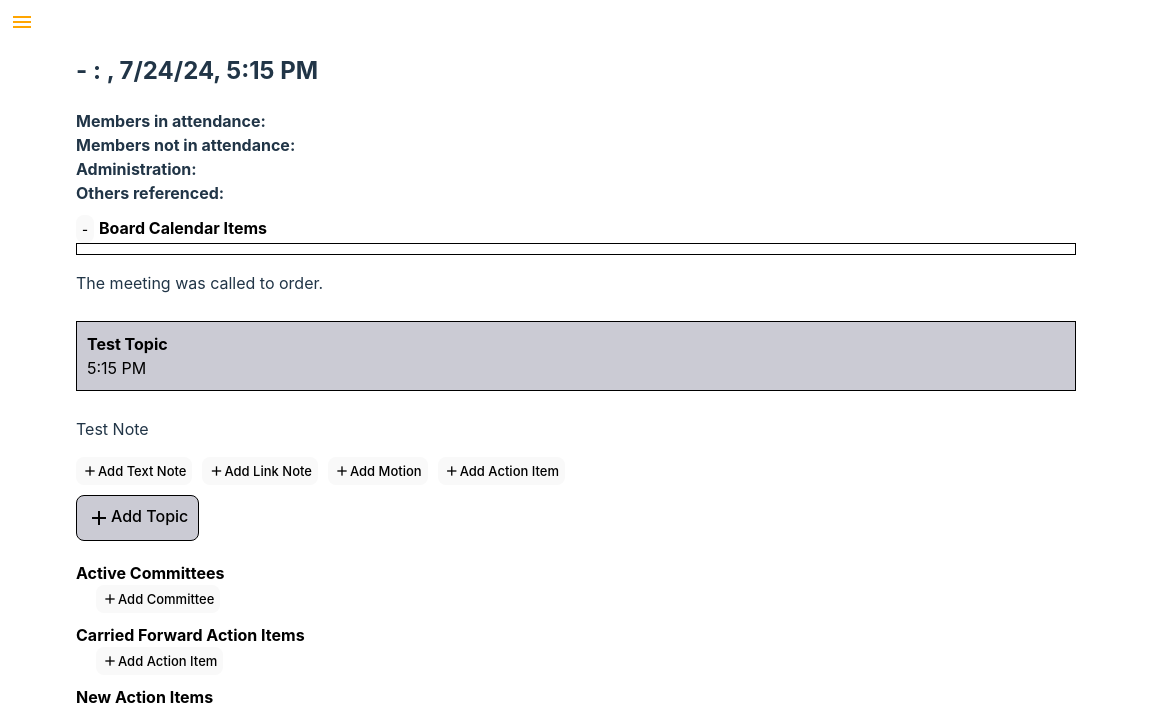
text notes › does not apply changes if cancel is clicked
Hover over the text "Test Note": {"x": 112, "y": 429} [76,419,149,439]
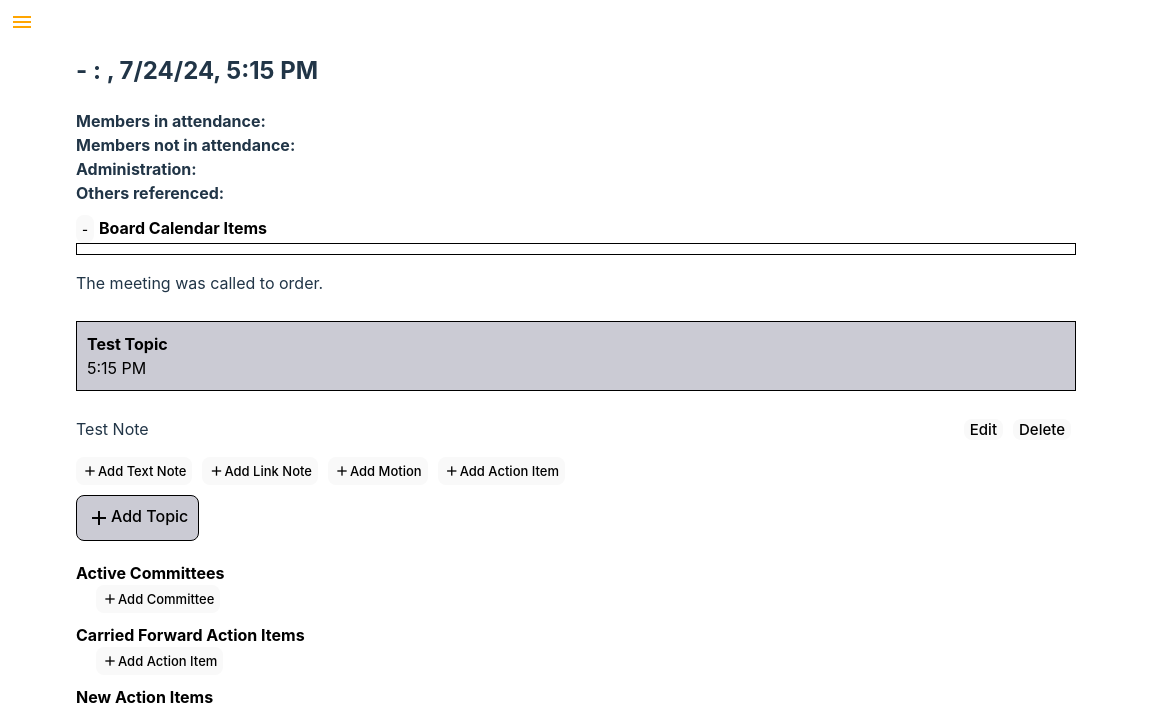
Click the button "Edit": {"x": 983, "y": 430} [964,419,1003,440]
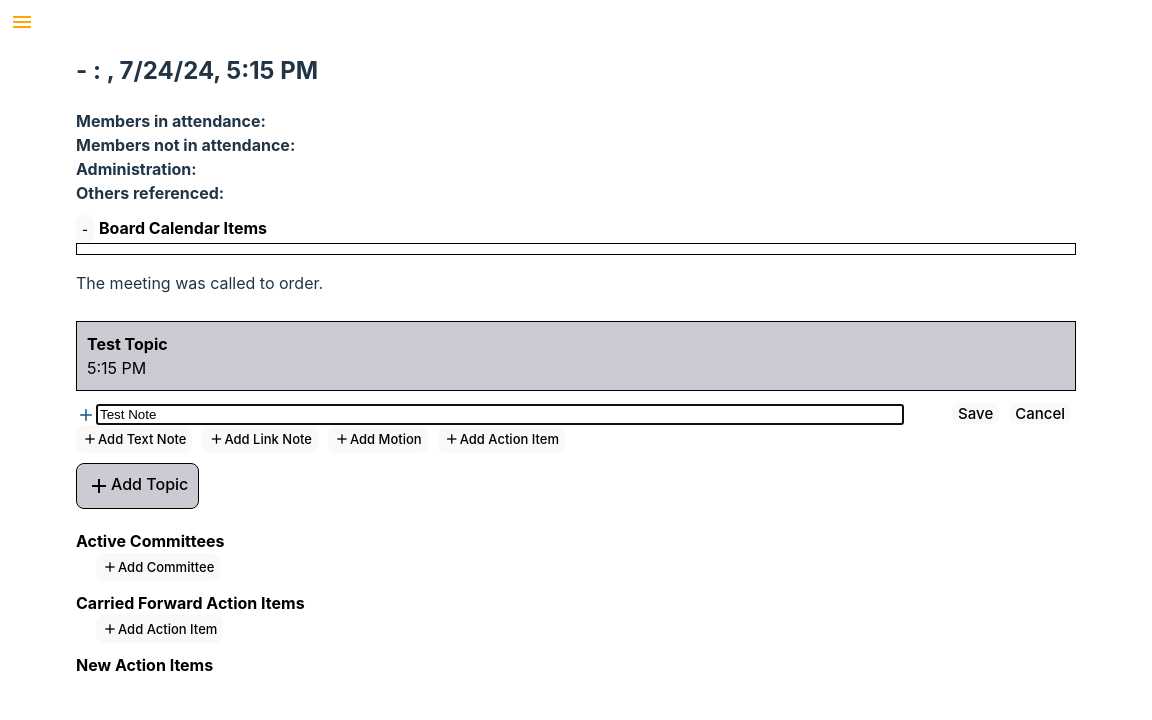
In the field named "Text": {"x": 500, "y": 415} [96,404,904,425], type " edited"
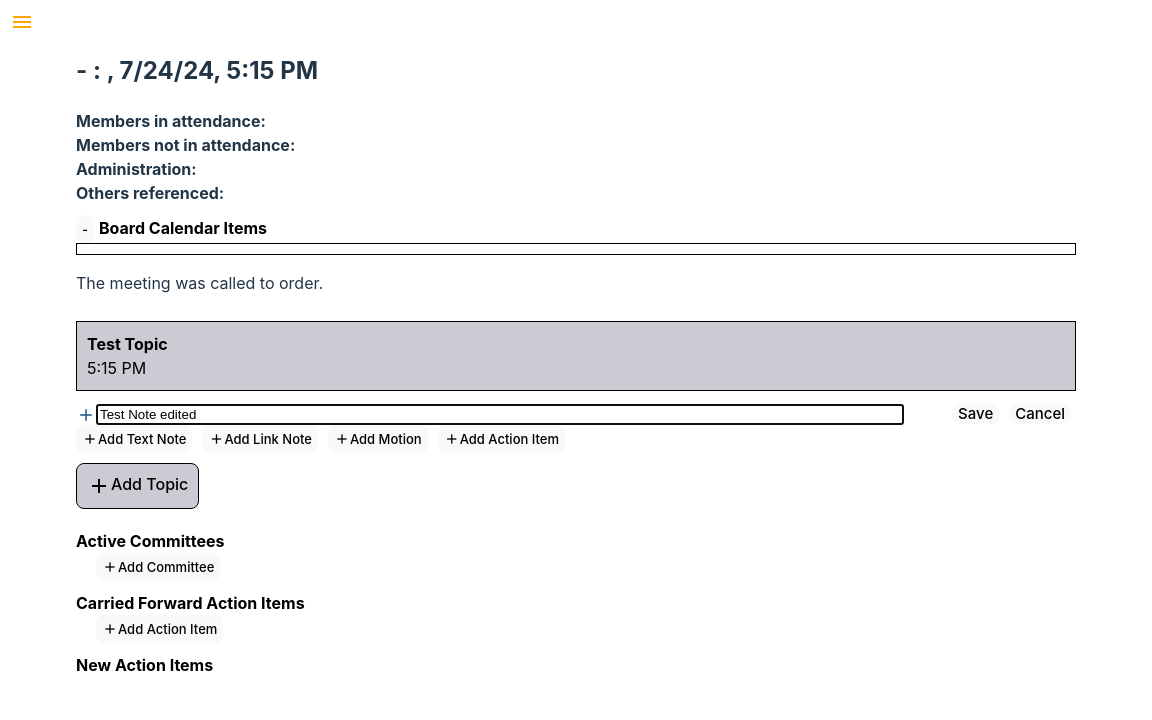
Click the button "Cancel": {"x": 1040, "y": 414} [1009,403,1071,424]
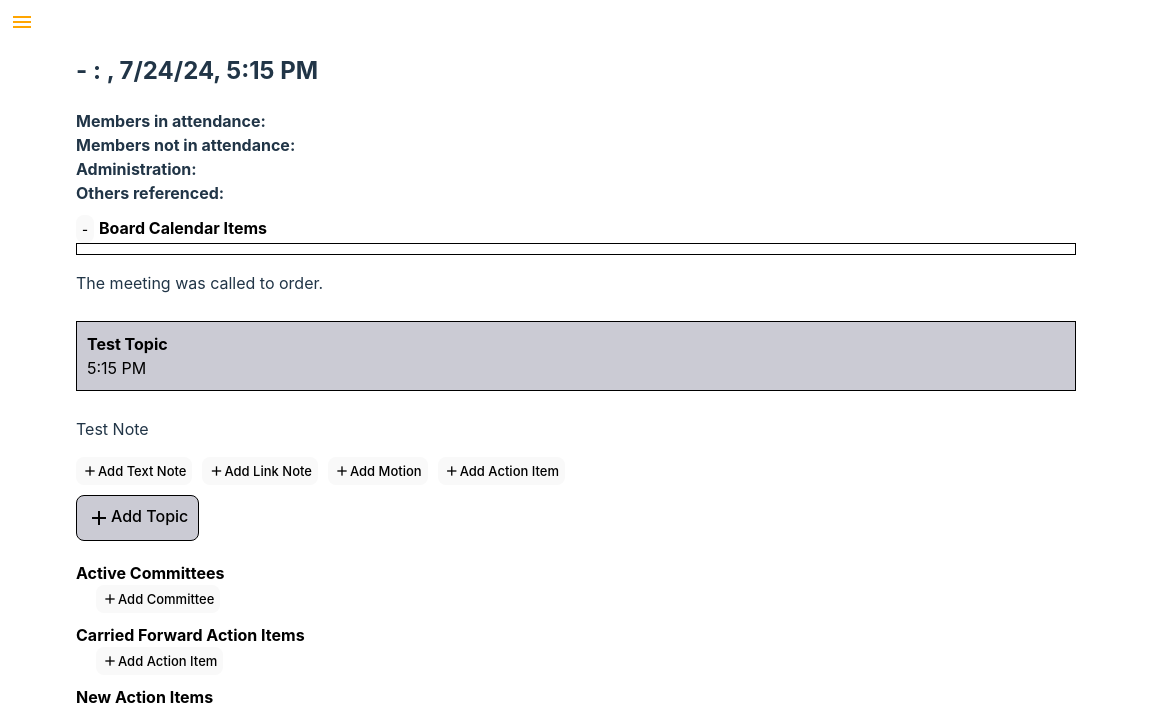
expect the text "Test Note" is shown: met, box [76,419,149,439]
